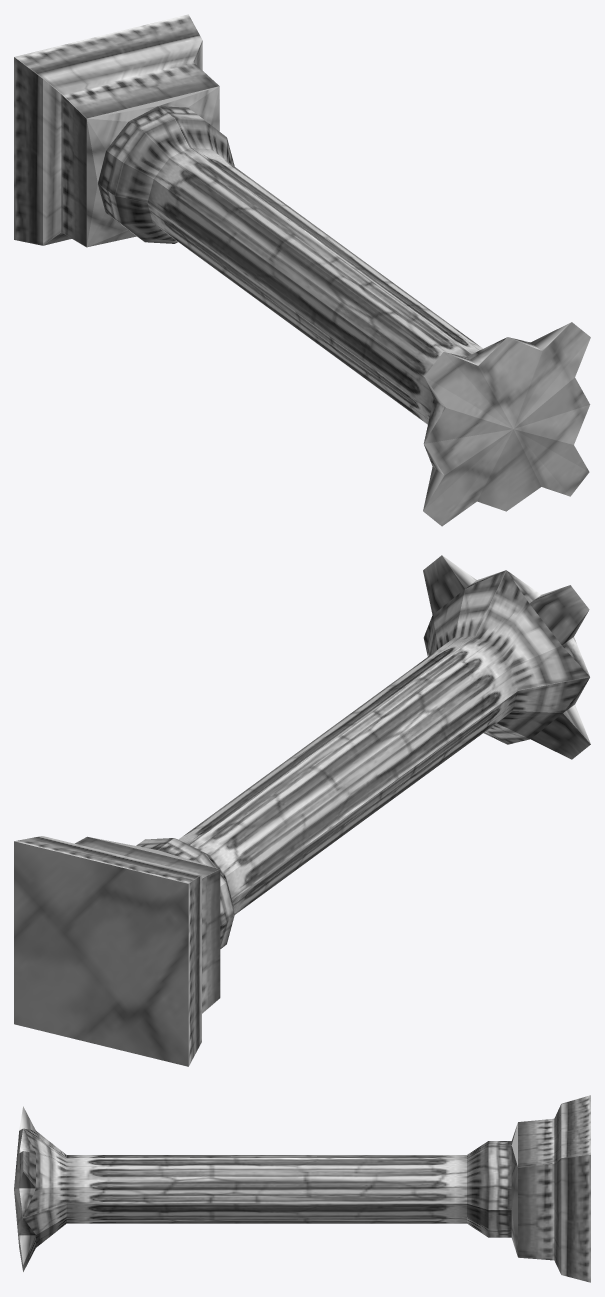
The model's file is pillar.obj.
The picture shows the model from 3 angles, top to bottom: view 1: azimuth 30°, elevation 25°; view 2: azimuth 150°, elevation 25°; view 3: azimuth 270°, elevation 25°; orthographic projection. The views are drawn at different scales.
Size of the model in its own units: 4.85 by 4.86 by 19.84.
1 material, 1 textured.
